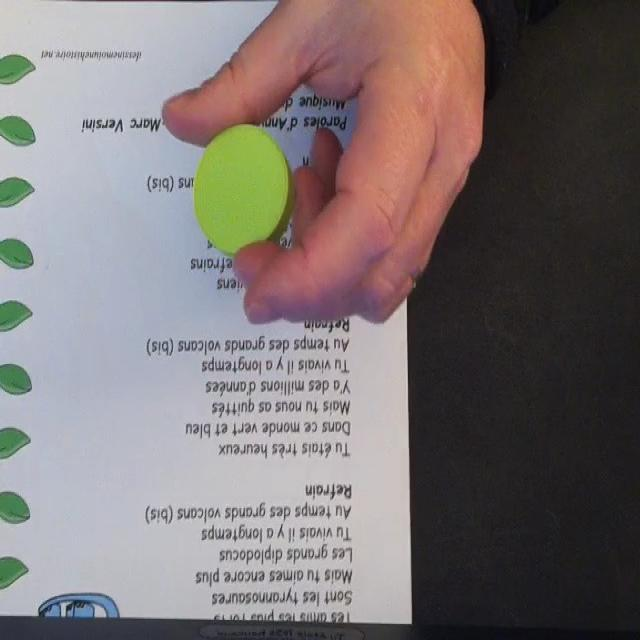round: (193, 123, 296, 255)
